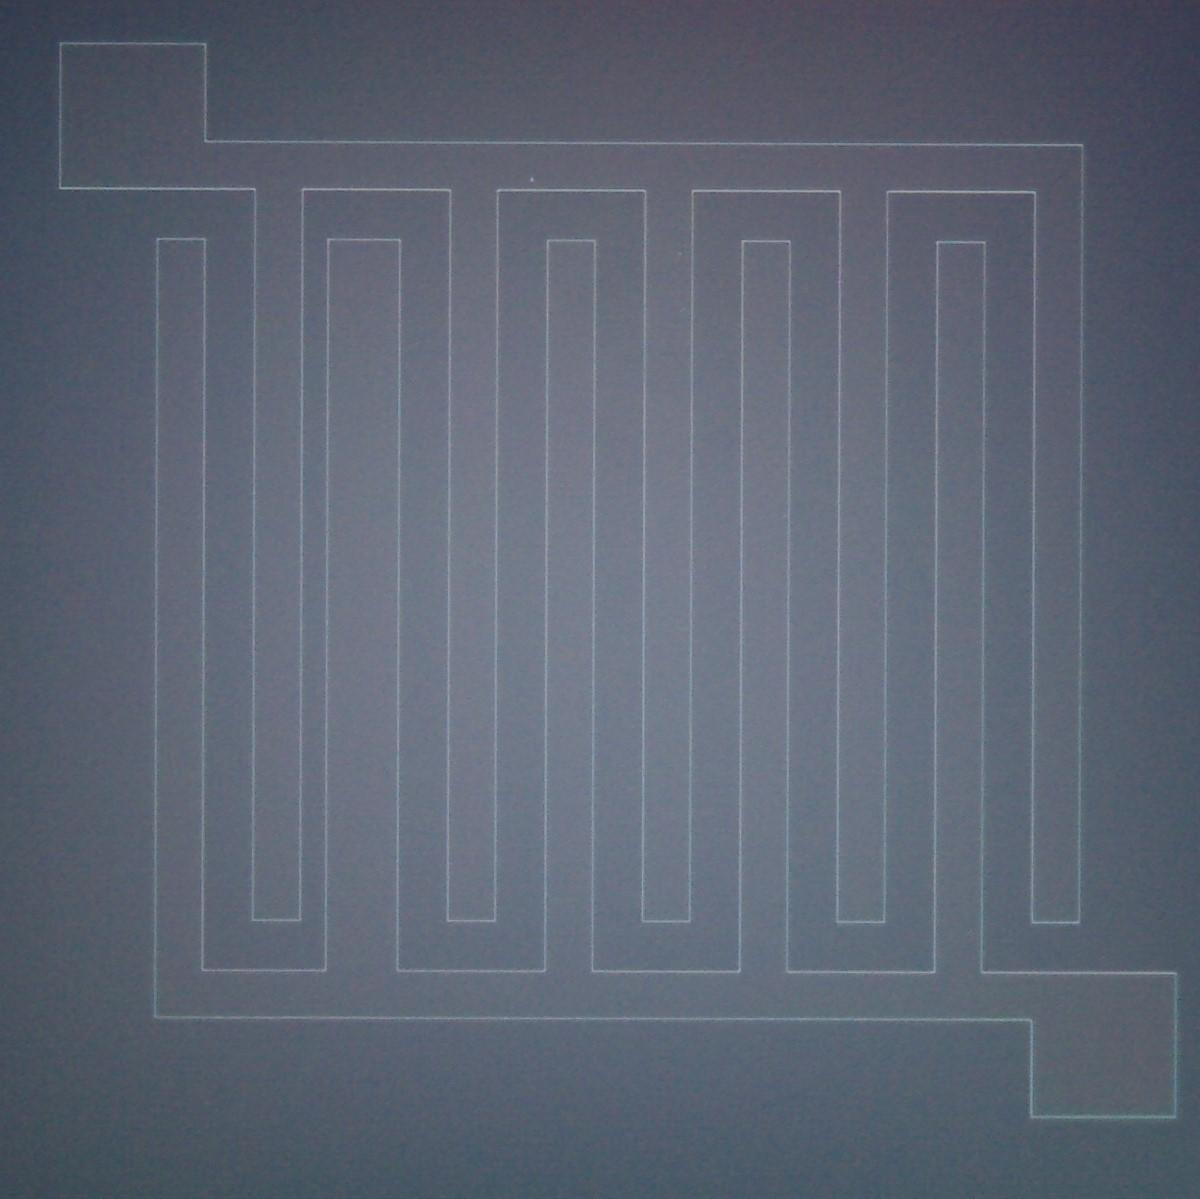s_point: (527, 173, 538, 184)
width: (223, 165, 520, 998)
